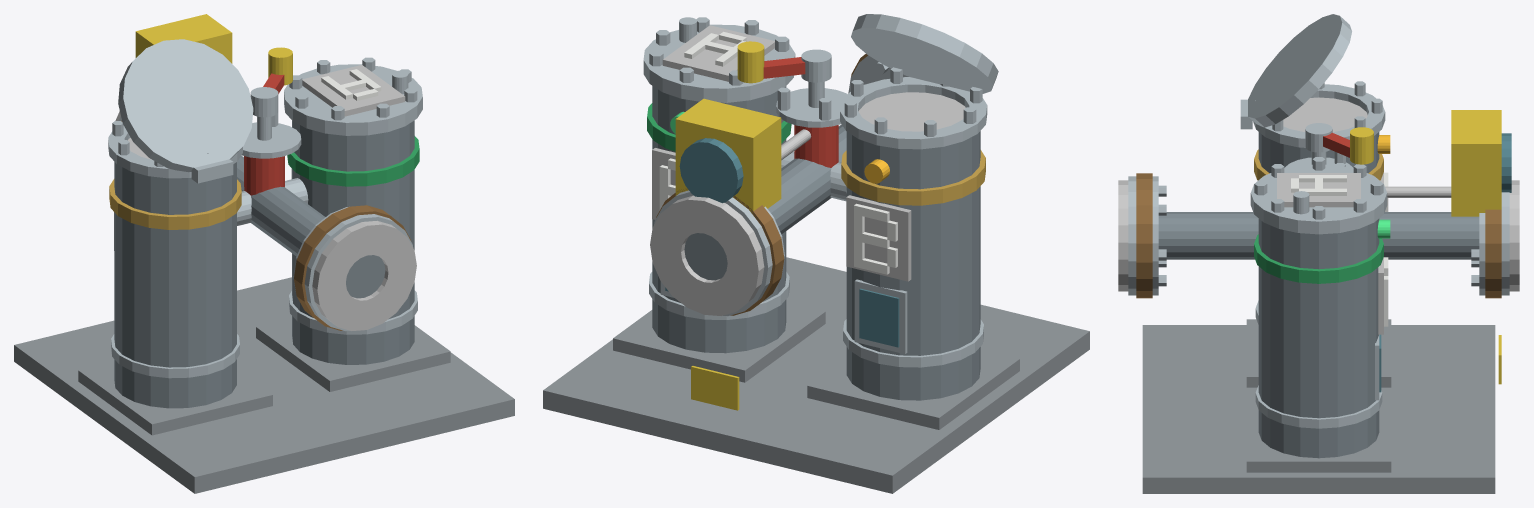
File: body_a_open.obj
3 views of the same model, side by side, from view 1: azimuth 30°, elevation 25°; view 2: azimuth 150°, elevation 25°; view 3: azimuth 270°, elevation 25° (orthographic). The views are drawn at different scales.
Size of the model in its own units: 0.9 by 0.9703 by 1.
